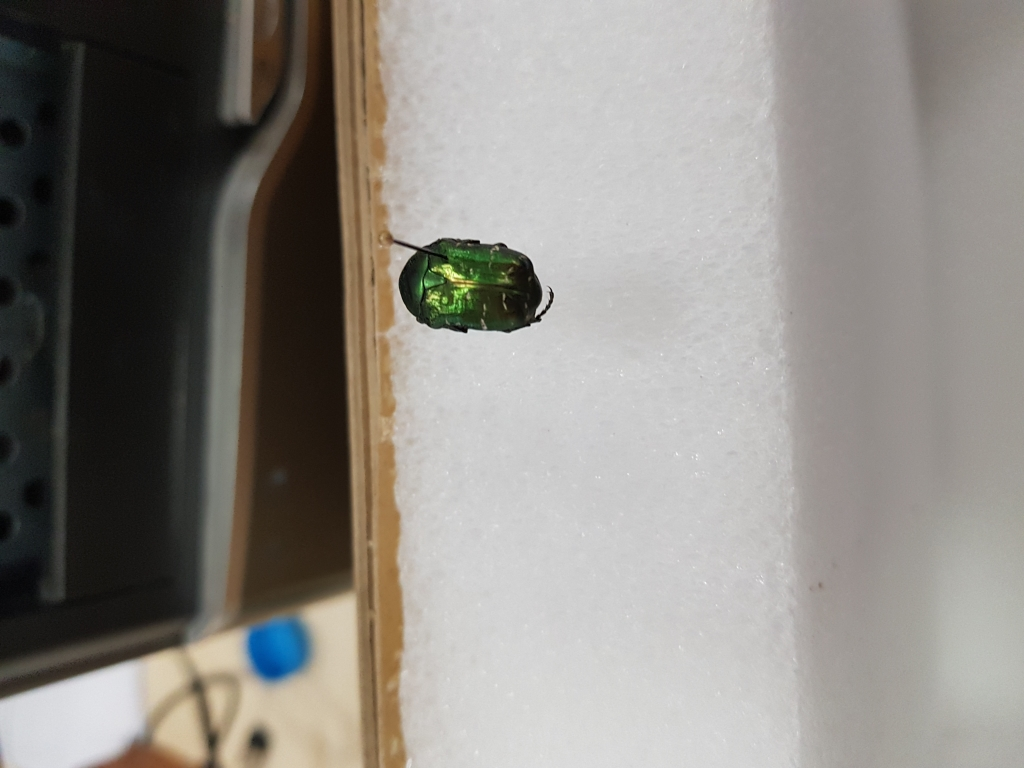Cetonia_kemali: (396, 232, 558, 340)
